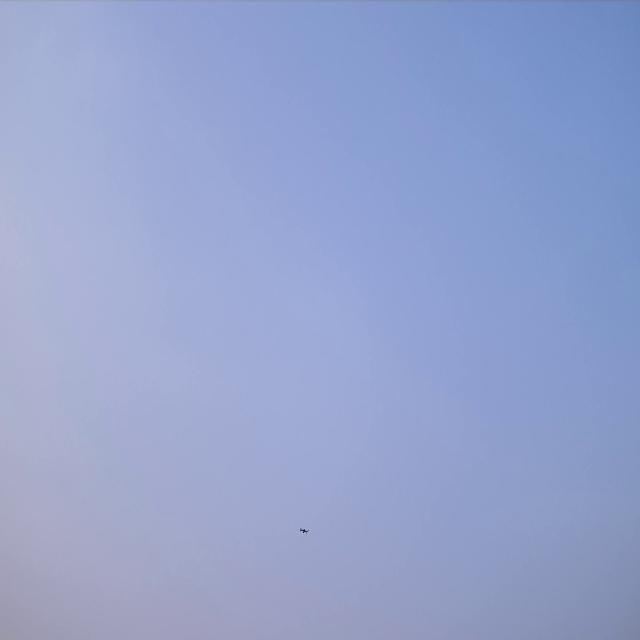UAV: (298, 527, 310, 536)
